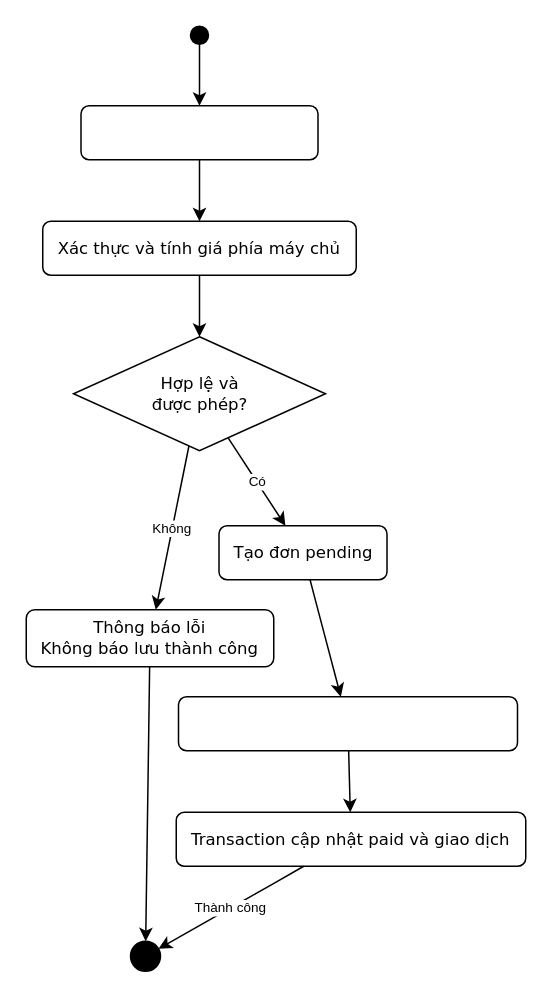
Some shapes in this 552 by 998 pixel diagram are drawn without their labels. Here are the shapes that lost their labels. From the top down, the centre of each, then its label:
At [199,132]: "Chọn gói và phương thức".
At [347,723]: "Kiểm tra chủ đơn và PAYMENT_MODE".
